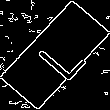L_NW: (25, 27, 85, 83)
